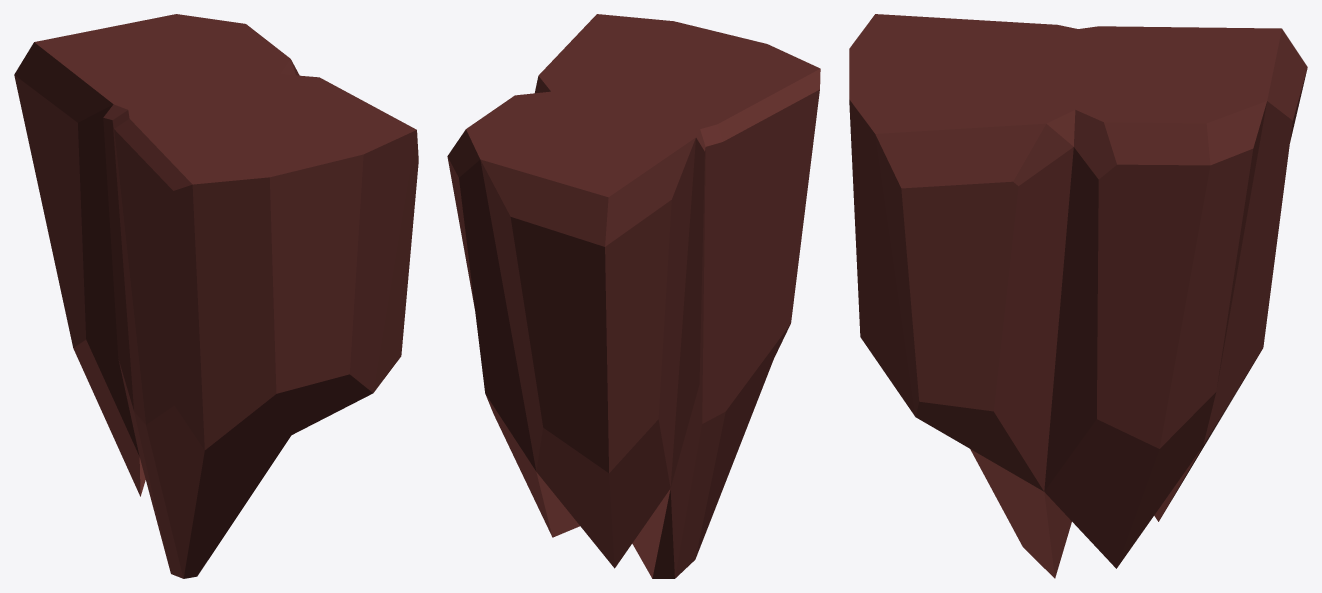
Rendered from Island2.fbx.
3 views of the same model, side by side, from view 1: azimuth 30°, elevation 25°; view 2: azimuth 150°, elevation 25°; view 3: azimuth 270°, elevation 25° (orthographic). The views are drawn at different scales.
Parts seen in each view (by area): view 1: Island 2; view 2: Island 2; view 3: Island 2.
Boxes of the visible parts, bbox=[...] form: Island 2: bbox=[14, 14, 418, 578]; Island 2: bbox=[447, 14, 820, 578]; Island 2: bbox=[849, 14, 1307, 578].
Size of the model in its own units: 220 by 403 by 323.
